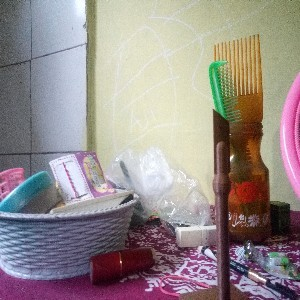cutter: (211, 107, 232, 300)
